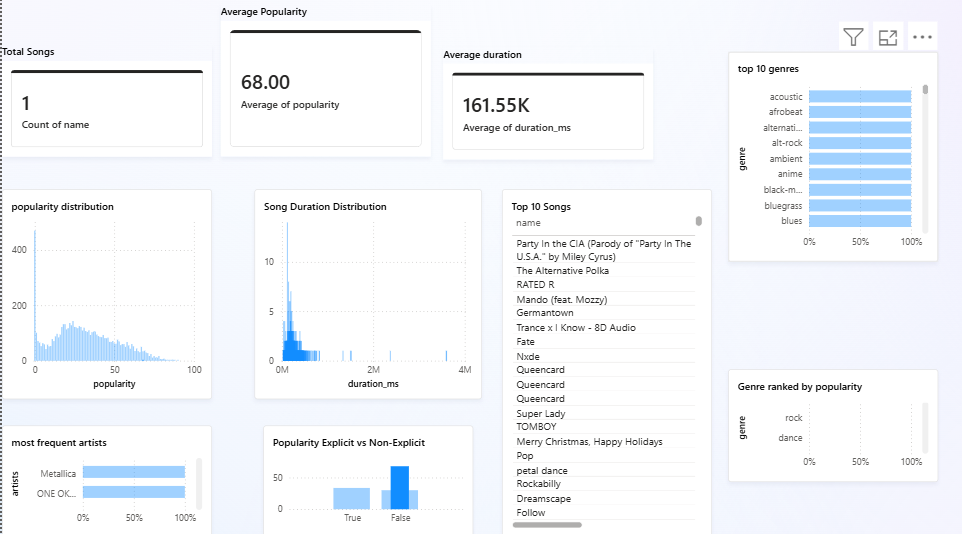

This screenshot's page, from the dashboard's own definition file:
{"tool":"powerbi","page":{"name":"Page 1","canvas":[1280,720],"ordinal":0},"visuals":[{"type":"clusteredColumnChart","title":"popularity distribution","fields":{"Y":["spotify_tracks[1].popularity"],"Category":["spotify_tracks[1].popularity"]},"box":[0,255,280,280],"z":0},{"type":"hundredPercentStackedBarChart","title":"top 10 genres","fields":{"Category":["spotify_tracks[1].genre"],"Y":["spotify_tracks[1].genre"]},"box":[968.3,71.7,280,280],"z":1000},{"type":"hundredPercentStackedBarChart","title":"Genre ranked by popularity","fields":{"Category":["spotify_tracks[1].genre"],"Y":["spotify_tracks[1].popularity"]},"box":[968.3,495,280,150],"z":1001},{"type":"hundredPercentStackedBarChart","title":"most frequent artists ","fields":{"Category":["spotify_tracks[1].artists"],"Y":["spotify_tracks[1].artists"]},"box":[0,570,280,150],"z":1002},{"type":"columnChart","title":"Popularity Explicit vs Non-Explicit","fields":{"Category":["spotify_tracks[1].explicit"],"Y":["spotify_tracks[1].popularity"]},"box":[348.3,570,280,150],"z":1003},{"type":"columnChart","title":"Song Duration Distribution","fields":{"Category":["spotify_tracks[1].duration_ms"],"Y":["spotify_tracks[1].duration_ms"]},"box":[336.7,255,303.3,280],"z":1004},{"type":"tableEx","title":"Top 10 Songs","fields":{"Values":["spotify_tracks[1].name","spotify_tracks[1].artists","spotify_tracks[1].genre","spotify_tracks[1].popularity"]},"box":[666.7,255,280,465],"z":1005},{"type":"cardVisual","title":"Total Songs","fields":{"Data":["spotify_tracks[1].name"]},"box":[0,61.7,280,150],"z":1006},{"type":"cardVisual","title":"Average Popularity","fields":{"Data":["spotify_tracks[1].popularity"]},"box":[291.7,8.3,280,203.3],"z":1007},{"type":"cardVisual","title":"Average duration","fields":{"Data":["spotify_tracks[1].duration_ms"]},"box":[588.3,65,280,150],"z":1008}]}

Visuals, with their boxes on the page's 1280x720 design canvas (x1, y1, x2, y2). These are canvas units, not pixel positions in the 962x534 screenshot, which may show the page scaled, cropped or inside an application window:
"popularity distribution" clusteredColumnChart: <box>0,255,280,535</box>
"top 10 genres" hundredPercentStackedBarChart: <box>968,72,1248,352</box>
"Genre ranked by popularity" hundredPercentStackedBarChart: <box>968,495,1248,645</box>
"most frequent artists " hundredPercentStackedBarChart: <box>0,570,280,720</box>
"Popularity Explicit vs Non-Explicit" columnChart: <box>348,570,628,720</box>
"Song Duration Distribution" columnChart: <box>337,255,640,535</box>
"Top 10 Songs" tableEx: <box>667,255,947,720</box>
"Total Songs" cardVisual: <box>0,62,280,212</box>
"Average Popularity" cardVisual: <box>292,8,572,212</box>
"Average duration" cardVisual: <box>588,65,868,215</box>
